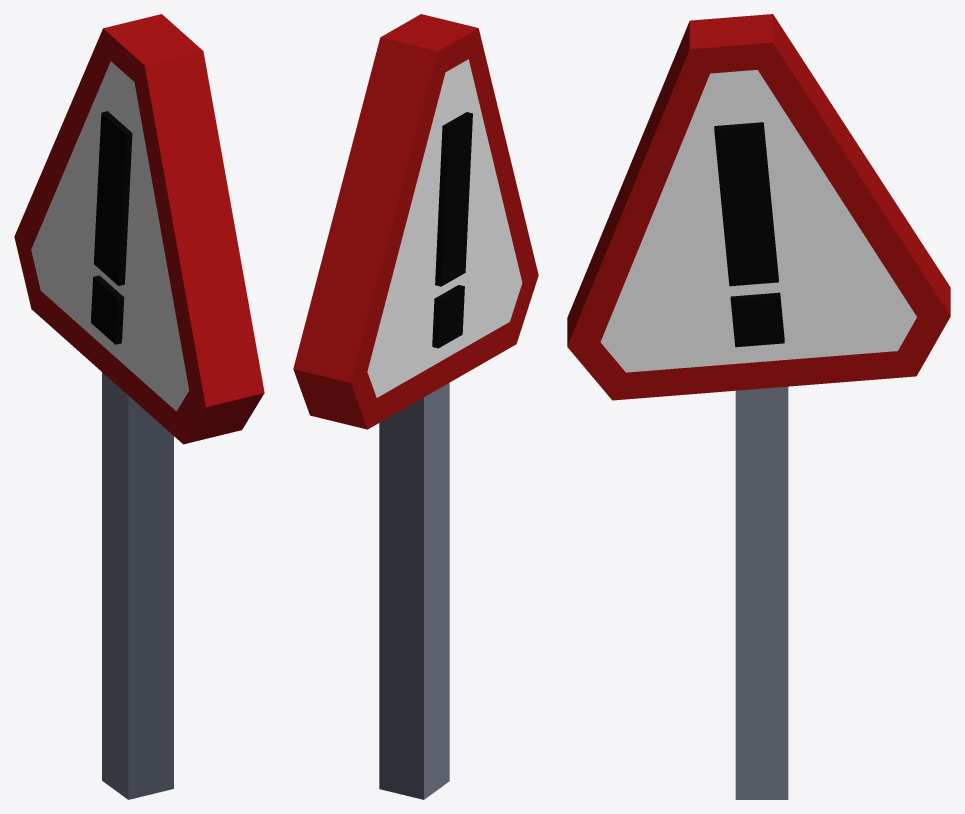
The model's file is roadsign.FBX.
The picture shows the model from 3 angles, left to right: view 1: azimuth 30°, elevation 25°; view 2: azimuth 150°, elevation 25°; view 3: azimuth 270°, elevation 25°; orthographic projection. The views are drawn at different scales.
Visible parts, largest first — view 1: roadsign; view 2: roadsign; view 3: roadsign.
Part boxes in pixels (left/top/right/bottom): roadsign: left=14, top=14, right=264, bottom=799; roadsign: left=293, top=14, right=538, bottom=799; roadsign: left=567, top=14, right=950, bottom=799.
Size of the model in its own units: 9.26 by 42.94 by 93.93.
